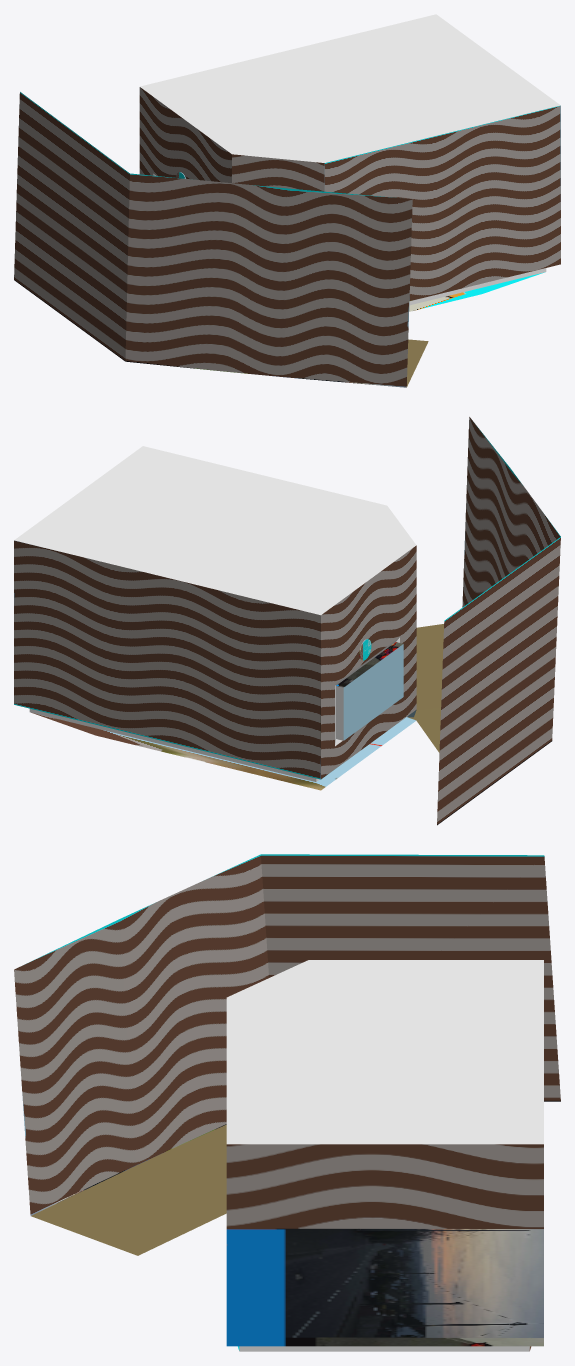
The model's file is nepobaby.glb.
3 views of the same model, one above another, from view 1: azimuth 30°, elevation 25°; view 2: azimuth 150°, elevation 25°; view 3: azimuth 270°, elevation 25° (orthographic). The views are drawn at different scales.
Parts seen in each view (by area): view 1: Cube; view 2: Cube; view 3: Cube.
Boxes of the visible parts, x1,y1,x2,y2 form: Cube: (14, 14, 560, 387); Cube: (14, 417, 560, 825); Cube: (14, 854, 560, 1351).
Bounding box in the file's own units: 13.7 × 6.08 × 12.21.
10 materials, 2 textured.
